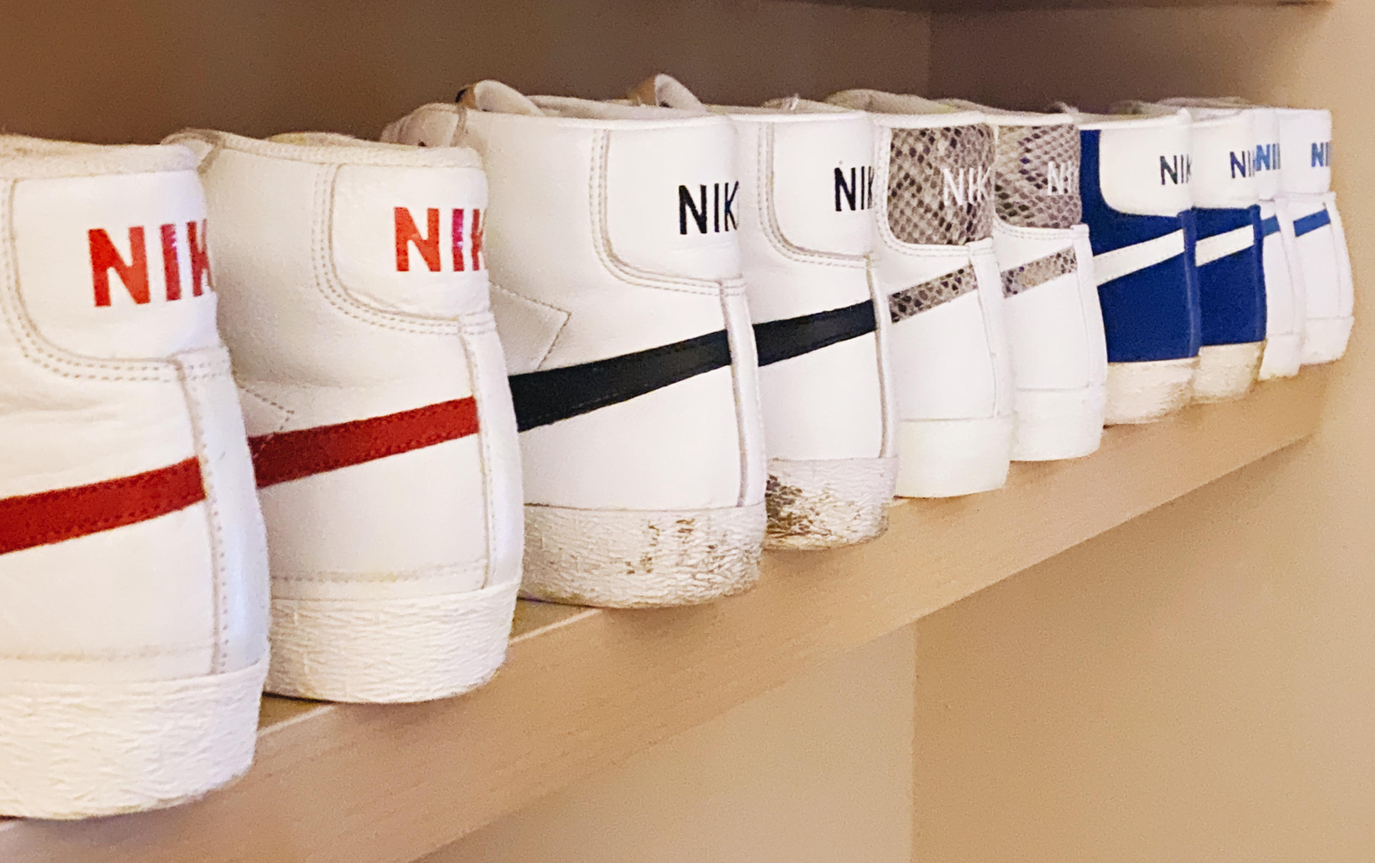sneaker: (1, 132, 282, 830), (295, 129, 555, 733), (534, 83, 776, 643), (900, 99, 1090, 615), (772, 104, 928, 622), (1117, 123, 1197, 456), (1206, 106, 1271, 437), (1286, 104, 1359, 380)
